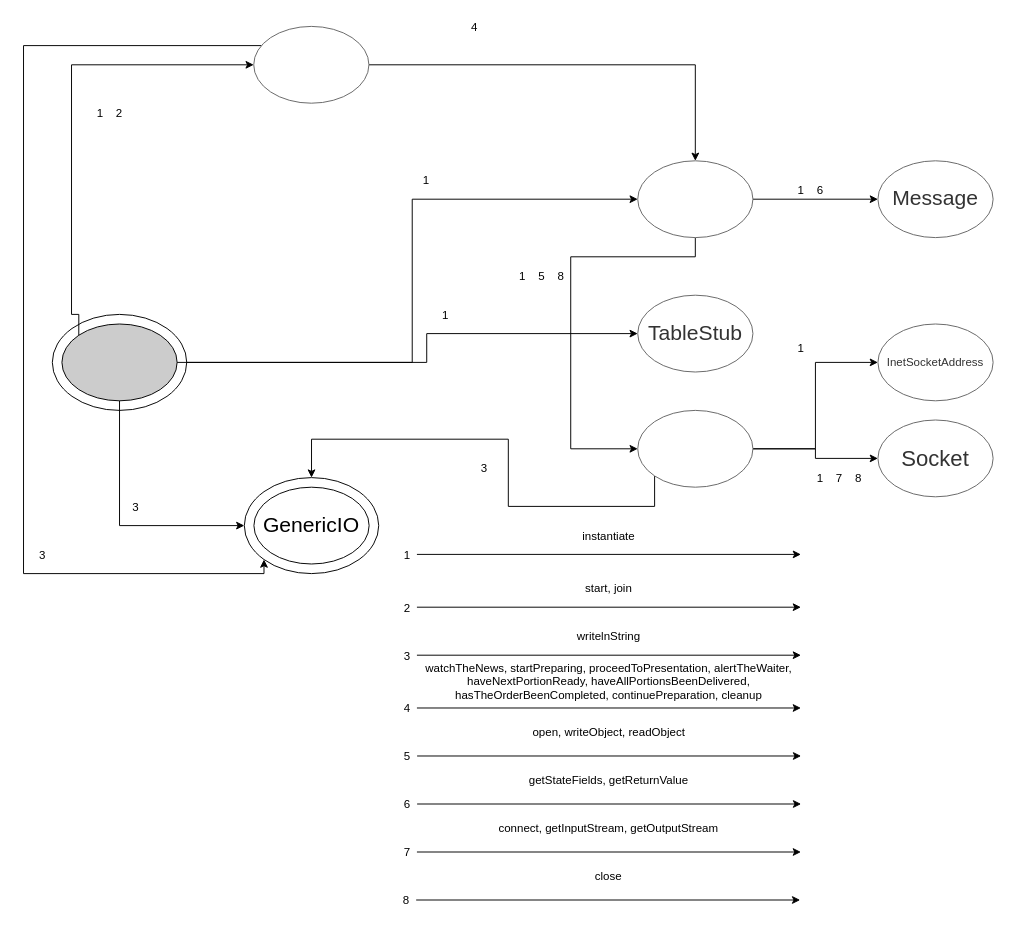
This 1010x925 diagram has some shape labels left out. Here are the shapes that lost their labels. From the top down, the box of each, then its label:
(253, 25, 369, 103): Chef
(637, 160, 753, 238): KitchenStub
(61, 323, 177, 401): ChefMain
(637, 409, 753, 487): CommunicationChannel
